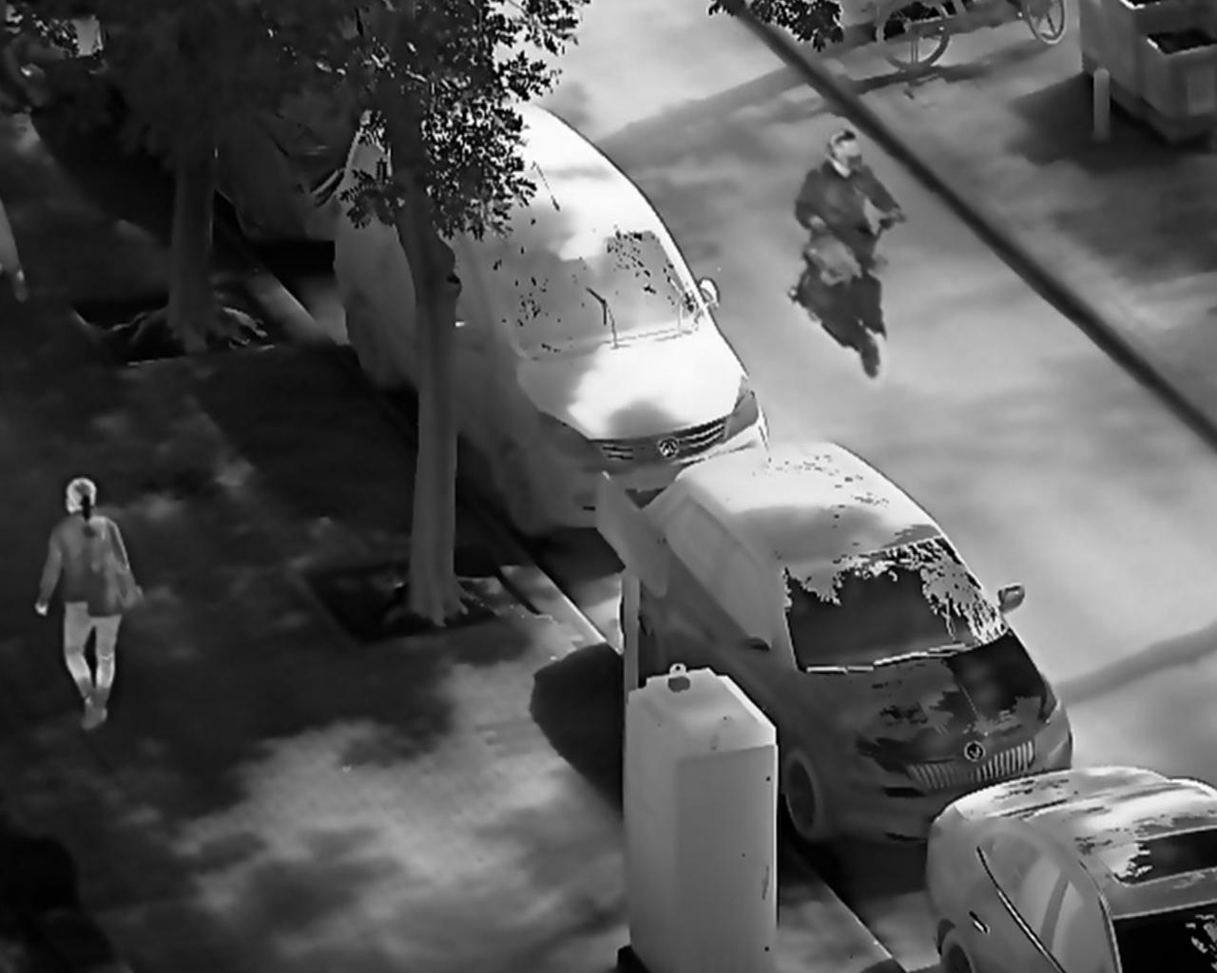person: (35, 473, 153, 735), (790, 127, 914, 309)
